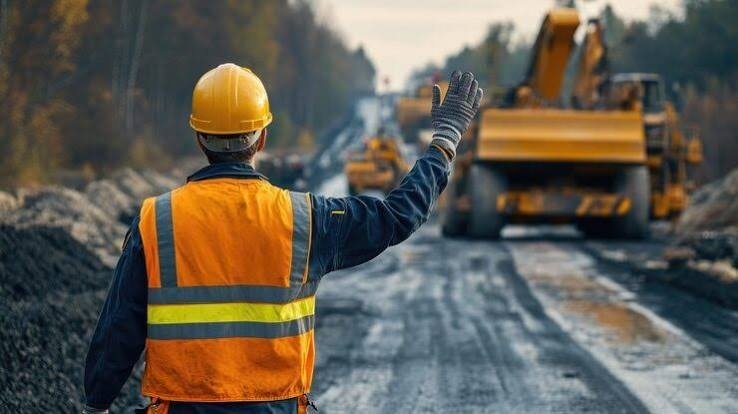hardhat: (175, 55, 282, 132)
machinery: (463, 21, 699, 237), (339, 128, 416, 196)
person: (66, 49, 491, 412)
safety_vest: (121, 168, 394, 405)
